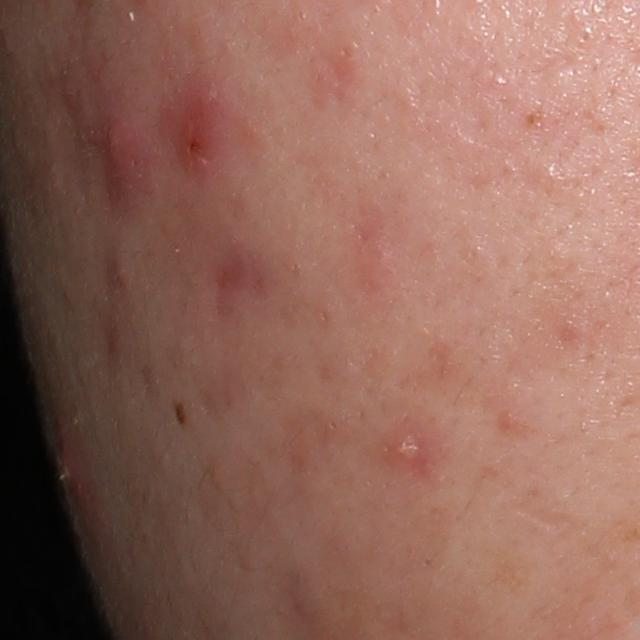nevus: (173, 400, 186, 427)
papule: (177, 71, 231, 168), (105, 106, 143, 205)
